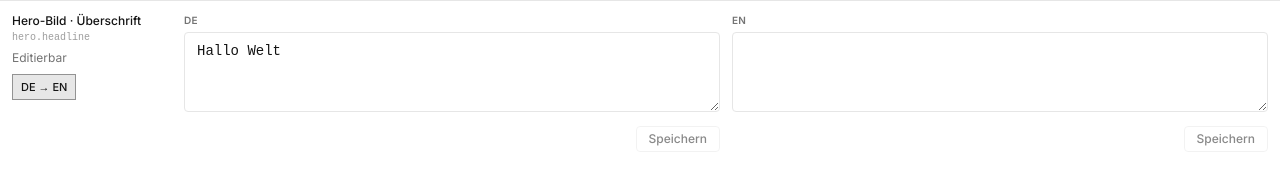
Test: EditableField — verspätete Übersetzungsvorschläge › fügt einen Vorschlag für dasselbe Feld als ungespeicherten Entwurf ein
The width and height of the screenshot is (1280, 170).
Click the button "DE → EN". click: (44, 87)
box: [12,74,76,100]
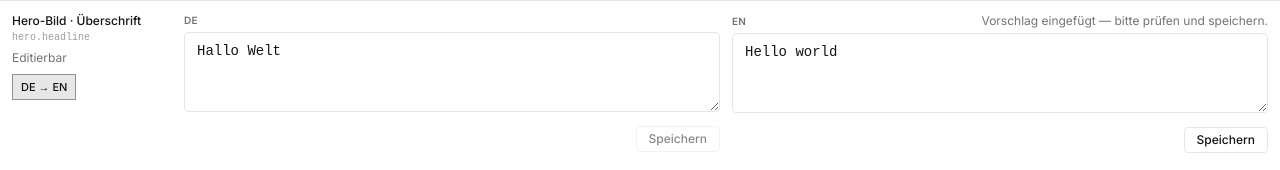
Expected: the 2nd text box holds "Hello world", [732,33,1268,113]
Expected: the text "Vorschlag eingefügt — bitte prüfen und speichern." is shown, [982,13,1268,29]
